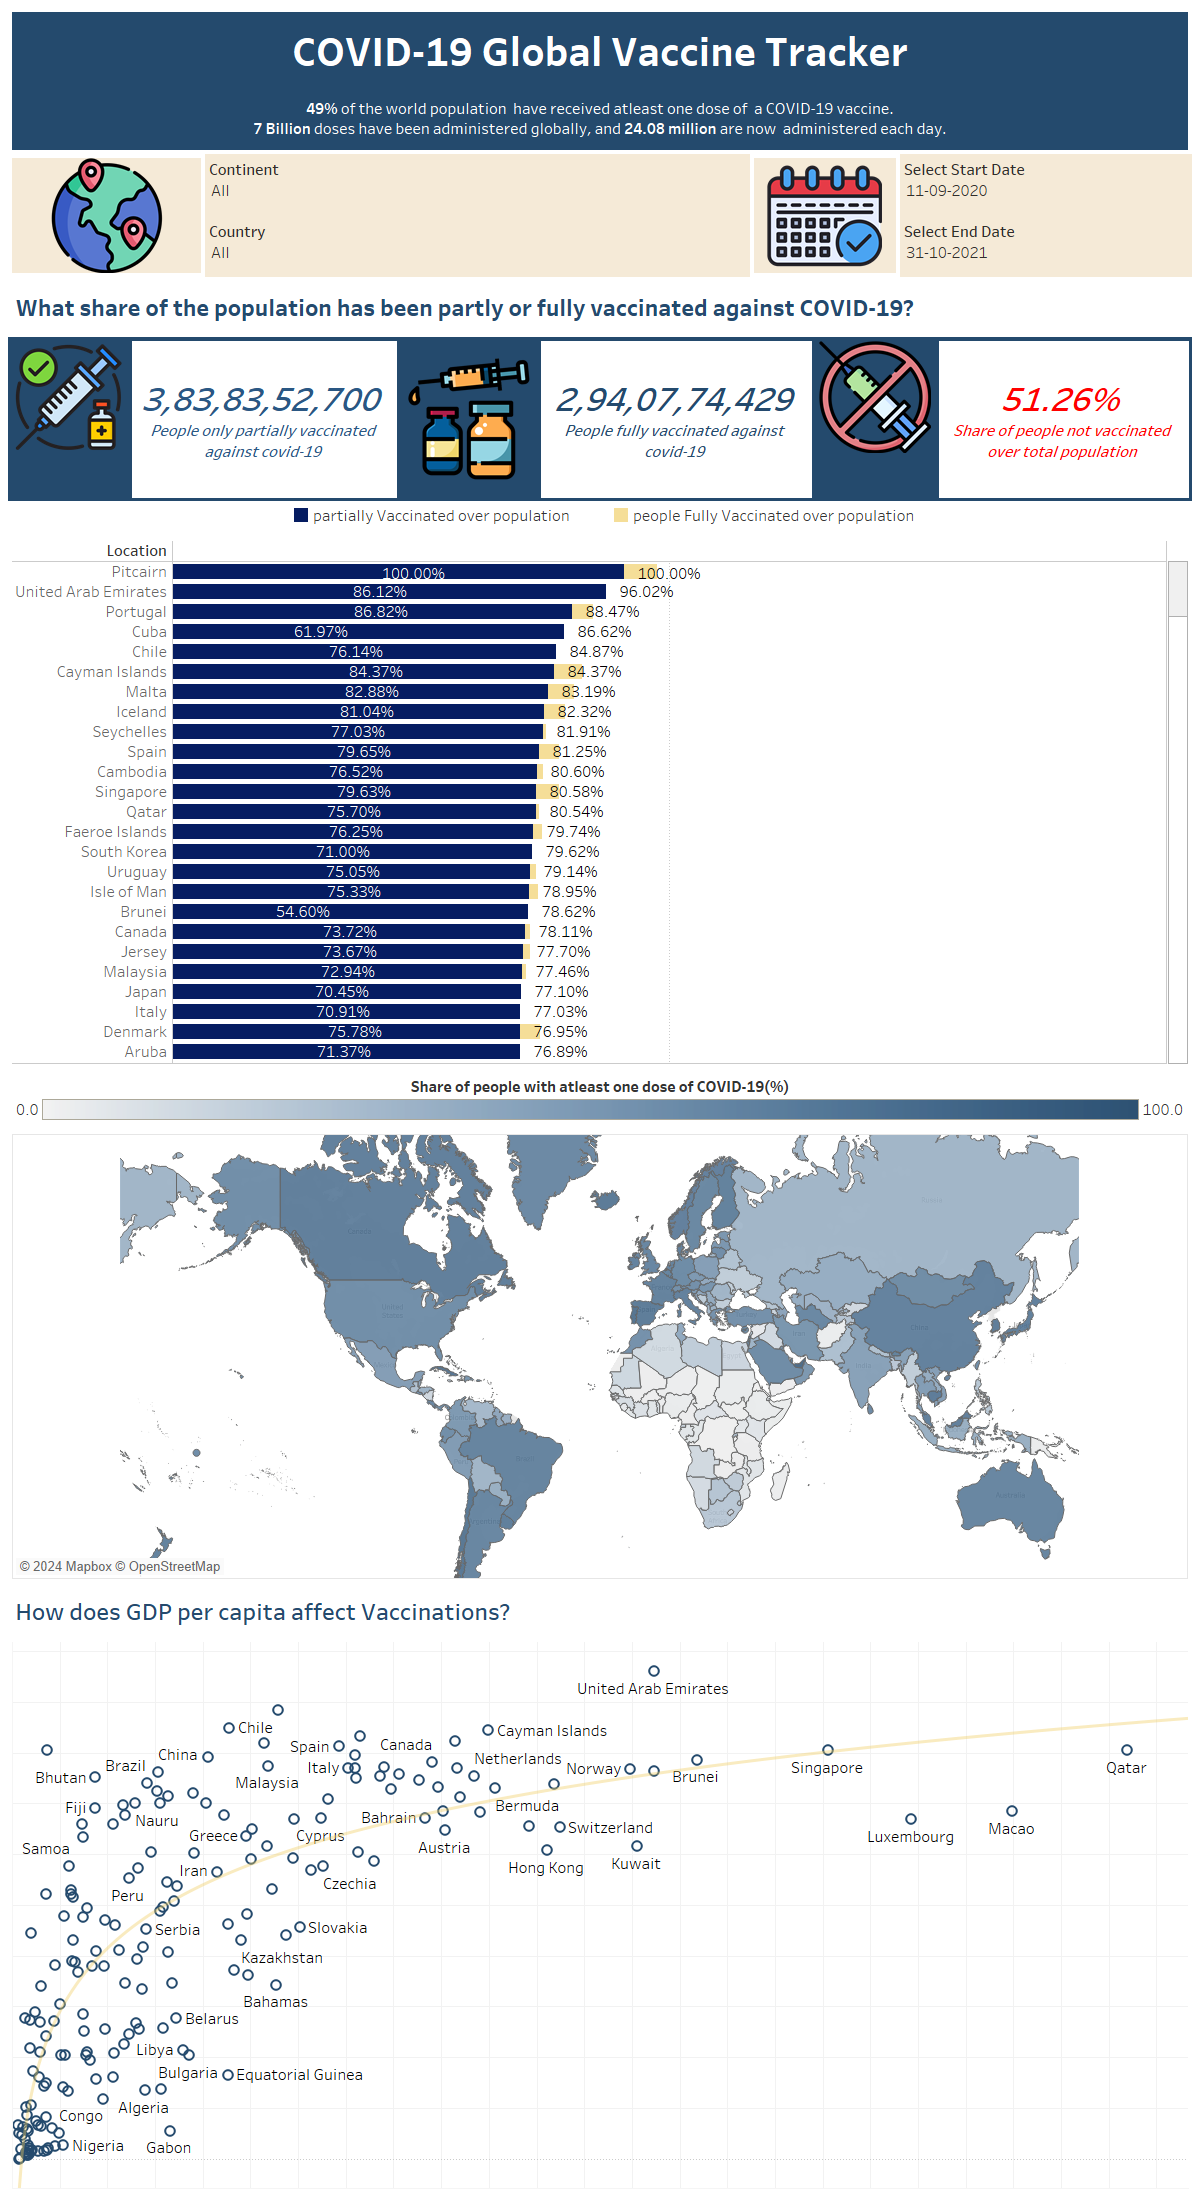

What the dashboard file says about the page in this screenshot:
{"tool":"tableau","page":{"name":"Global Covid19 Vaccine Tracker","canvas":[1200,2200],"ordinal":0},"visuals":[{"type":"text","box":[8,8,1184,146]},{"type":"image","param":"C:/Users/divya/OneDrive/Desktop/Data Analyst Projects/Project 5/coronavirus.png","box":[8,154,197.3,123]},{"type":"filter","title":"KPI1- People Partially vaccinated","param":"[federated.1qip0gu0lburrp10t8kx70az49wx].[none:Continent:nk]","box":[205,154,545,62]},{"type":"image","param":"C:/Users/divya/OneDrive/Desktop/Data Analyst Projects/Project 5/calendar.png","box":[750.1,154,149.9,123]},{"type":"parameter","param":"[Parameters].[Parameter 1]","box":[900,154,292,62]},{"type":"filter","title":"KPI1- People Partially vaccinated","param":"[federated.1qip0gu0lburrp10t8kx70az49wx].[none:Location (copy):nk]","box":[205,216,545,61]},{"type":"parameter","param":"[Parameters].[Select Start Date (copy)_3413447070696308742]","box":[900,216,292,61]},{"type":"text","box":[8,277,1184,60]},{"type":"image","param":"C:/Users/divya/OneDrive/Desktop/Data Analyst Projects/Project 5/injection.png","box":[8,337,120,164]},{"type":"worksheet","title":"KPI1- People Partially vaccinated","mark":"Automatic","box":[128,337,272,164]},{"type":"image","param":"C:/Users/divya/OneDrive/Desktop/Data Analyst Projects/Project 5/vaccine.png","box":[400,337,137,164]},{"type":"worksheet","title":"KPI2- People Fully vaccinated","mark":"Automatic","box":[537,337,278,164]},{"type":"image","param":"C:/Users/divya/OneDrive/Desktop/Data Analyst Projects/Project 5/No injectiom.png","box":[815,337,120,164]},{"type":"worksheet","title":"KPI3- Share of peope not vaccinated over the population","mark":"Automatic","box":[935,337,257,164]},{"type":"blank","box":[8,501,279,36]},{"type":"legend","title":"PVac vs FVac per Location ","param":"[federated.1qip0gu0lburrp10t8kx70az49wx].[:Measure Names]","box":[287,501,706,36]},{"type":"worksheet","title":"PVac vs FVac per Location ","mark":"Bar","rows":["Location"],"cols":["partially Vaccinated over population (copy)_3413447070666059","Calculation_3413447070326575104"],"box":[8,537,1184,531]},{"type":"legend","title":"Vaccinated per 100","param":"[federated.1qip0gu0lburrp10t8kx70az49wx].[max:People Vaccinated Per Hundred:qk]","box":[8,1068,1184,62]},{"type":"worksheet","title":"Vaccinated per 100","mark":"Automatic","box":[8,1130,1184,453]},{"type":"text","box":[8,1583,1184,55]},{"type":"worksheet","title":"Vacc over GDP","mark":"Automatic","rows":["People Vaccinated Per Hundred"],"cols":["Gdp Per Capita"],"box":[8,1638,1184,554]}]}

Visuals, with their boxes in screenshot pixels (x1, y1, x2, y2), scaled from the page's 1200x2200 canvas onto the 1200x2200 screenshot:
text: BBox(8, 8, 1192, 154)
image: BBox(8, 154, 205, 277)
"KPI1- People Partially vaccinated" filter: BBox(205, 154, 750, 216)
image: BBox(750, 154, 900, 277)
parameter: BBox(900, 154, 1192, 216)
"KPI1- People Partially vaccinated" filter: BBox(205, 216, 750, 277)
parameter: BBox(900, 216, 1192, 277)
text: BBox(8, 277, 1192, 337)
image: BBox(8, 337, 128, 501)
"KPI1- People Partially vaccinated" worksheet: BBox(128, 337, 400, 501)
image: BBox(400, 337, 537, 501)
"KPI2- People Fully vaccinated" worksheet: BBox(537, 337, 815, 501)
image: BBox(815, 337, 935, 501)
"KPI3- Share of peope not vaccinated over the population" worksheet: BBox(935, 337, 1192, 501)
blank: BBox(8, 501, 287, 537)
"PVac vs FVac per Location " legend: BBox(287, 501, 993, 537)
"PVac vs FVac per Location " worksheet (Bar marks): BBox(8, 537, 1192, 1068)
"Vaccinated per 100" legend: BBox(8, 1068, 1192, 1130)
"Vaccinated per 100" worksheet: BBox(8, 1130, 1192, 1583)
text: BBox(8, 1583, 1192, 1638)
"Vacc over GDP" worksheet: BBox(8, 1638, 1192, 2192)
